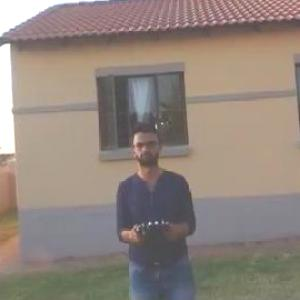follow: (112, 117, 201, 299)
